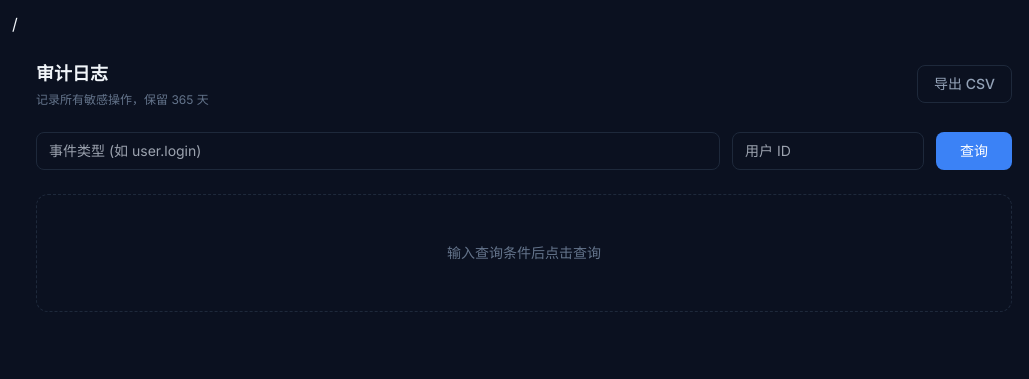
Scenario: audit failures clear stale records and reset actions bad
What coordinates should you click on to do the following:
click the button "查询"
I would click on:
 (974, 151)
Its box is [936,132,1012,170].
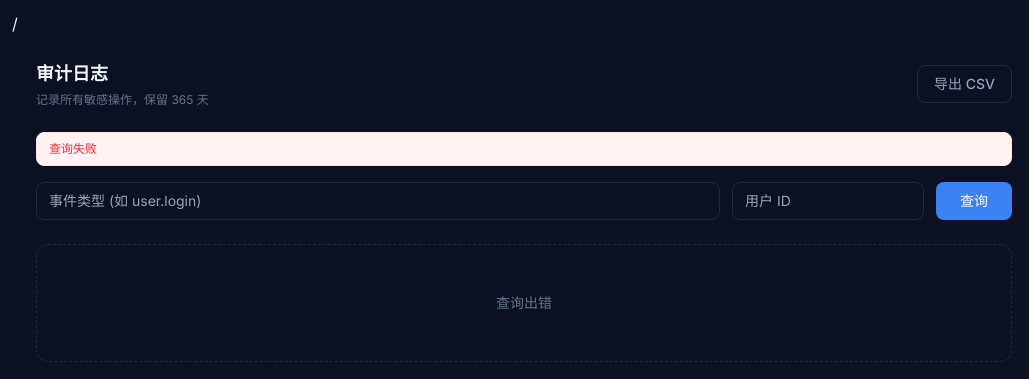
Expected: the text "查询失败" is shown, [36,132,1012,166]
Expected: the text "查询出错" is shown, [36,244,1012,362]
What coordinates should you click on to do the following:
click the button "导出 CSV"
I would click on:
 (964, 84)
Its box is [917,65,1012,103].
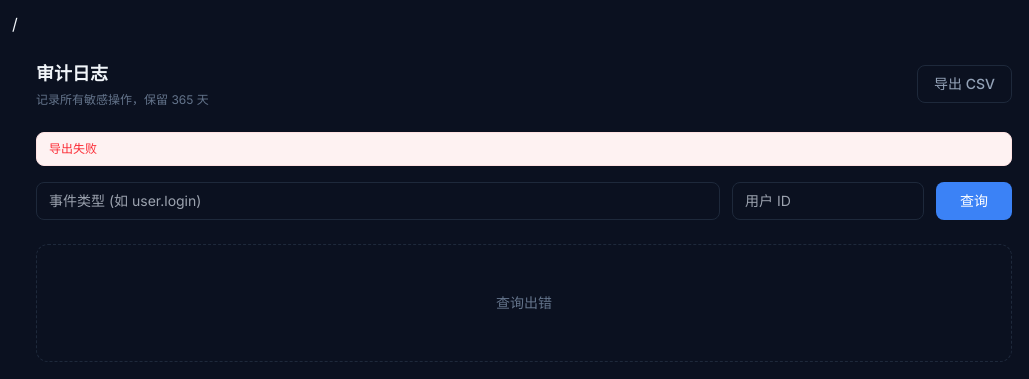
Expected: the text "导出失败" is shown, [36,132,1012,166]
